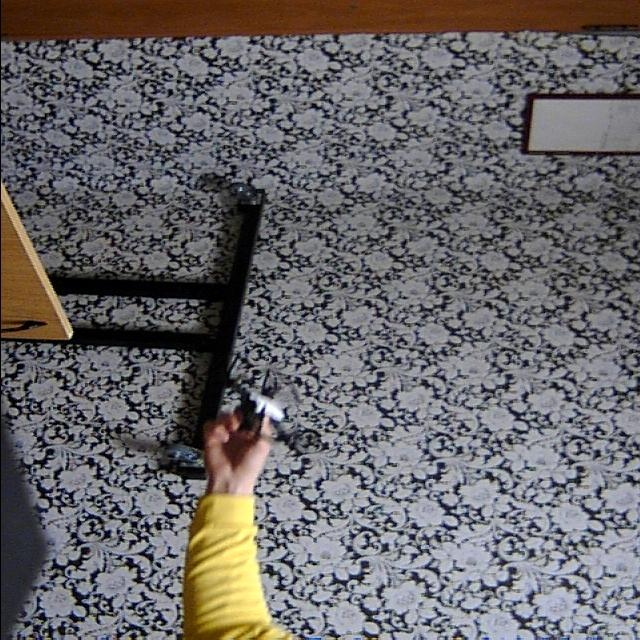drone: (196, 352, 328, 457)
